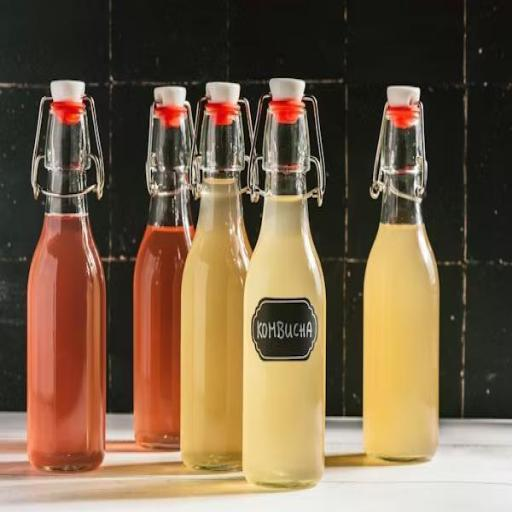bottle: (241, 69, 333, 505), (24, 68, 111, 488)
